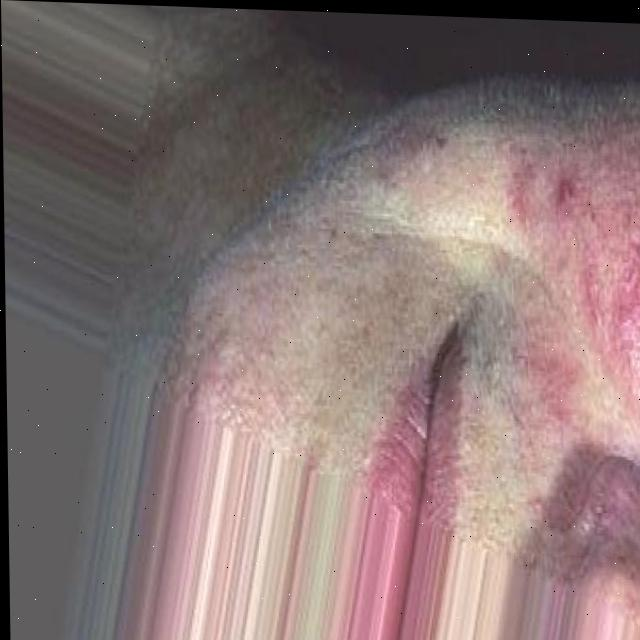Rosacea: (501, 152, 640, 421)
